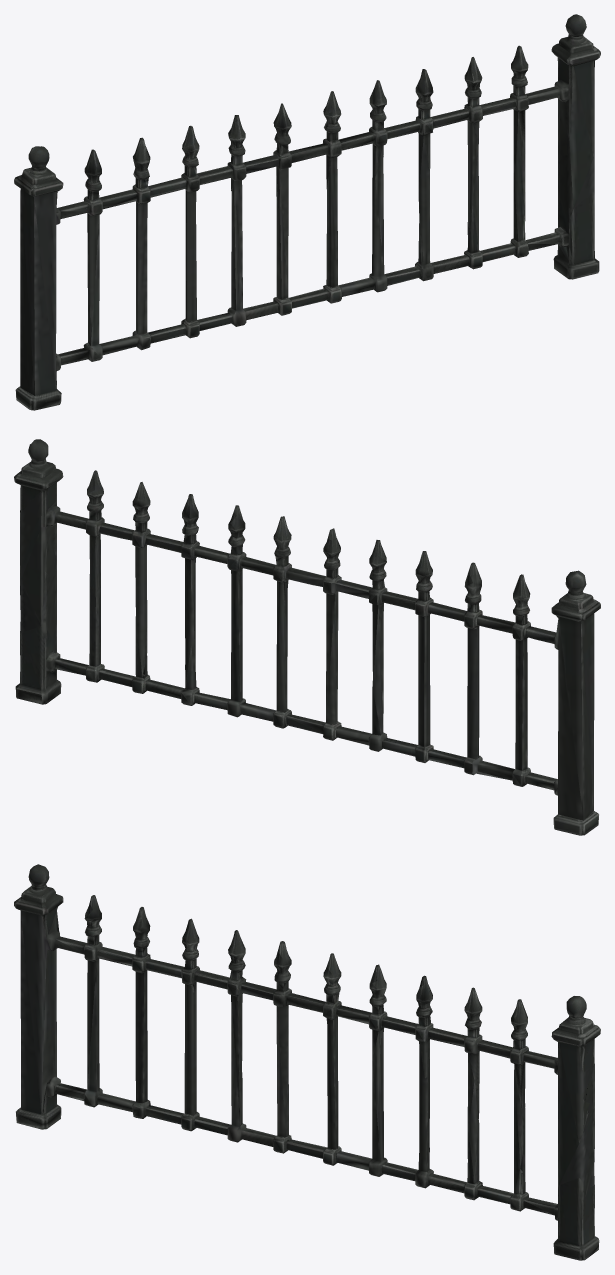
Rendered from getkong-zaun.glb.
3 views of the same model, one above another, from view 1: azimuth 30°, elevation 25°; view 2: azimuth 150°, elevation 25°; view 3: azimuth 330°, elevation 25° (orthographic).
Parts seen in each view (by area): view 1: output_unwrapped; view 2: output_unwrapped; view 3: output_unwrapped.
Part boxes in pixels (x1=…): output_unwrapped: x1=14, y1=14, x2=600, y2=410; output_unwrapped: x1=14, y1=439, x2=600, y2=835; output_unwrapped: x1=14, y1=864, x2=600, y2=1260.
Size of the model in its own units: 1.9 by 0.8123 by 0.1129.
Materials: 1 (1 with a texture image).
